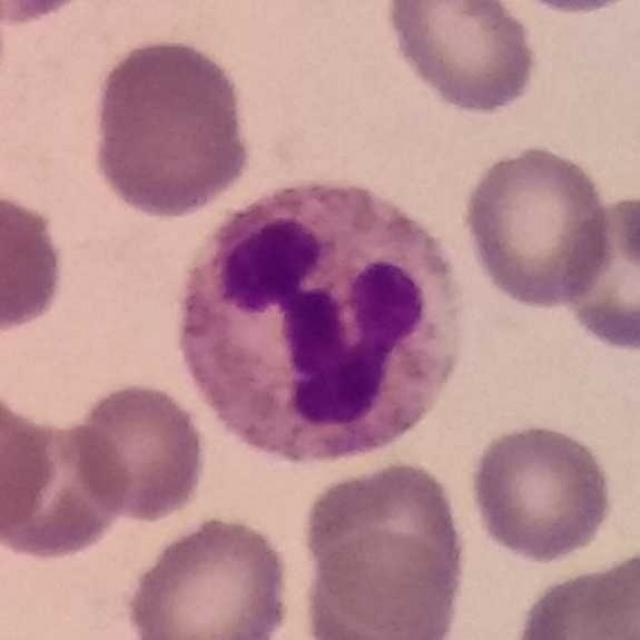Neutrophil: (164, 165, 478, 476)
RBC: (86, 32, 257, 222), (458, 140, 616, 312), (120, 511, 296, 640), (465, 419, 618, 566), (65, 378, 212, 524), (0, 413, 132, 565), (296, 525, 469, 640), (380, 0, 542, 118), (557, 192, 640, 355), (508, 552, 640, 640), (0, 182, 71, 340), (0, 380, 60, 546), (580, 544, 640, 640), (0, 0, 102, 30)
